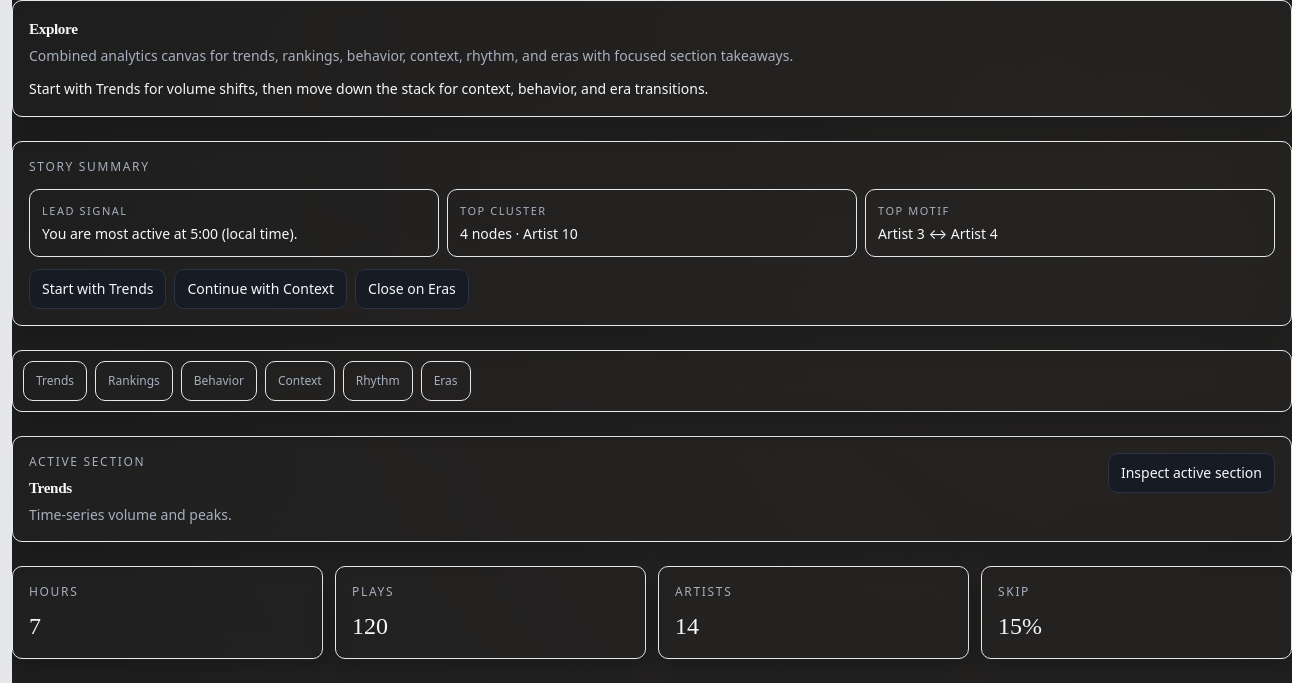
Test: ExploreDashboard › supports inspect drill-down controls with keyboard-dismiss and advanced routing
Click the button "Rankings" at point(134, 381), box [95,361,173,401]
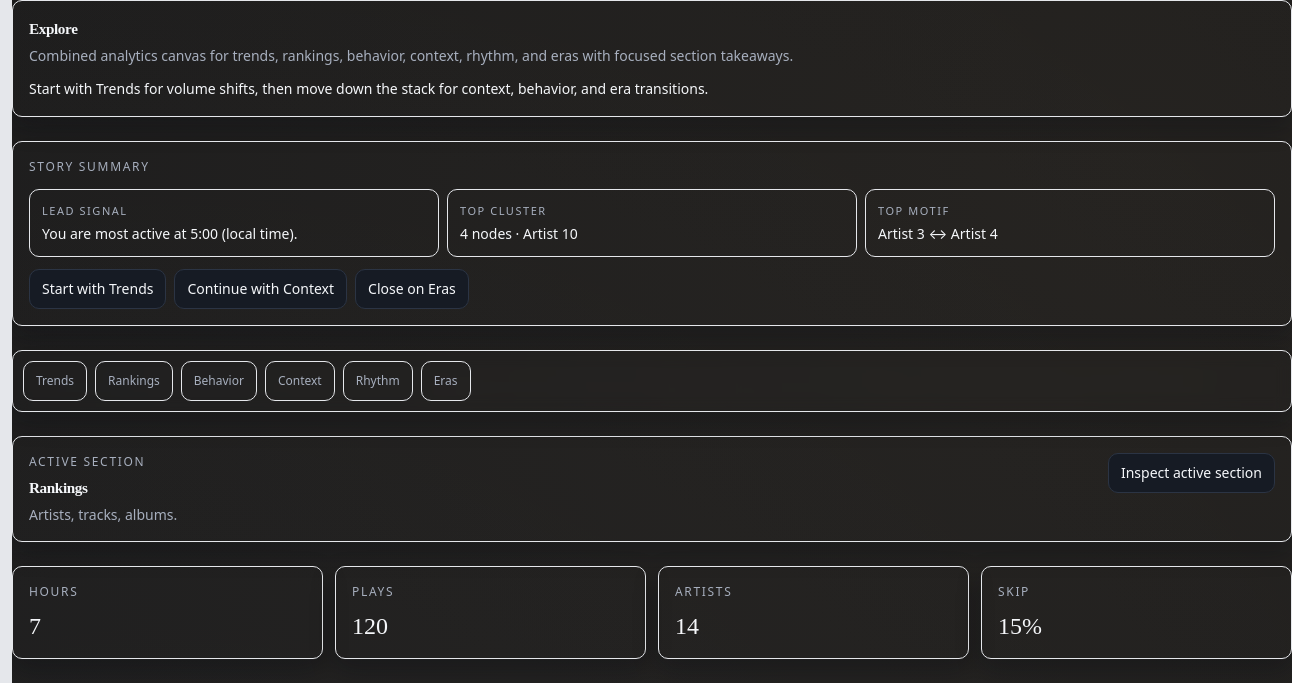
Click the button "Inspect active section" at point(1192, 473), box [1108,453,1275,493]
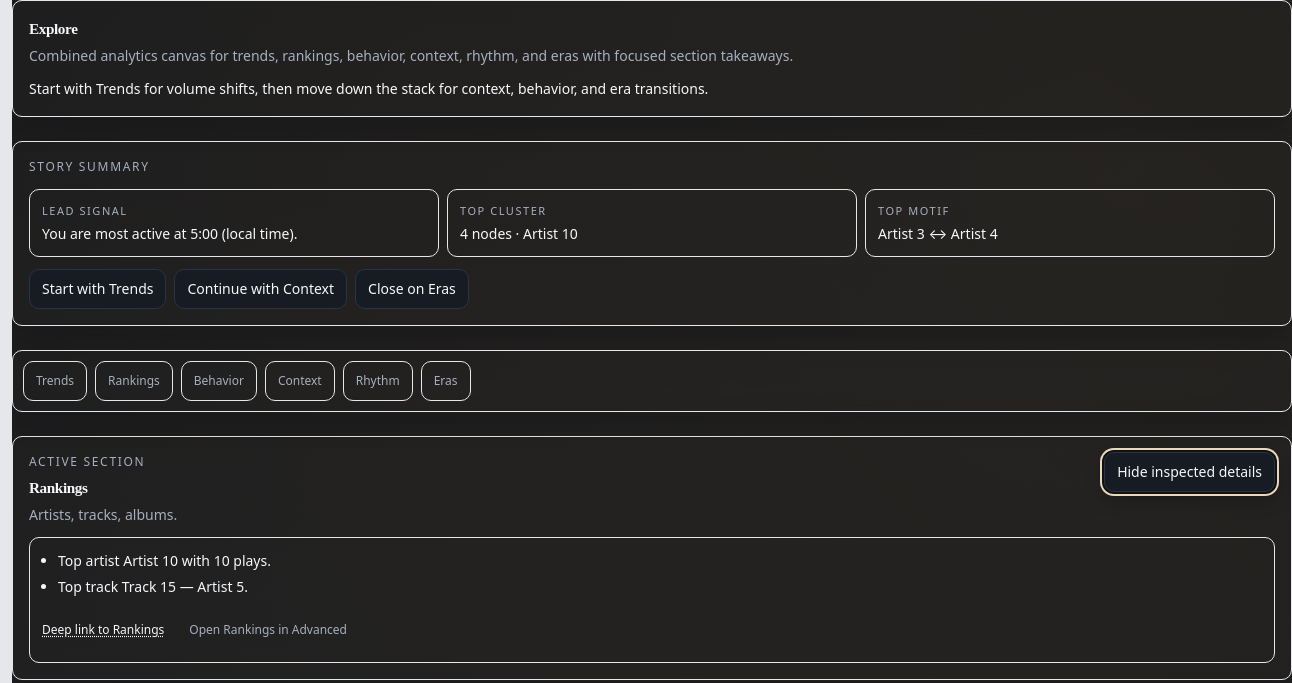
Expected: the button named "inspect active section" is expanded, [1104,452,1275,492]
Expected: the element named "rankings drill-down details" is shown, [29,537,1275,663]
Click the button "Open Rankings in Advanced" at point(268, 630), box [176,610,360,650]
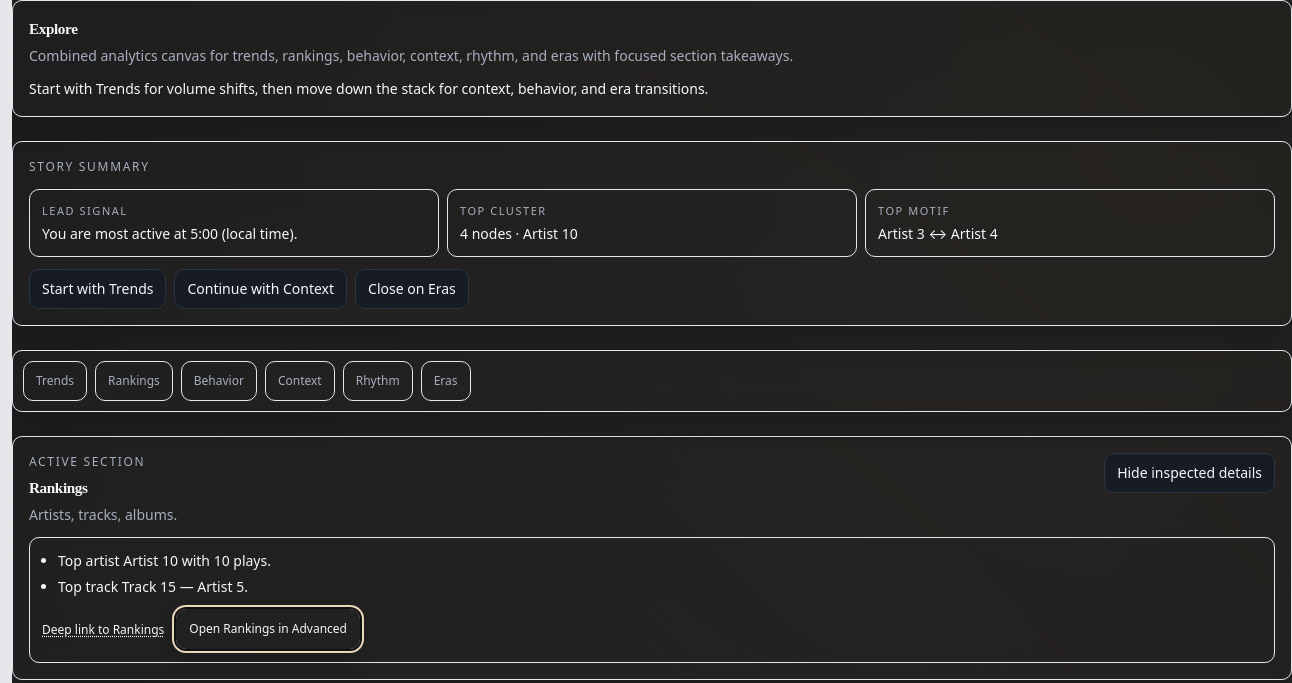
Press Escape
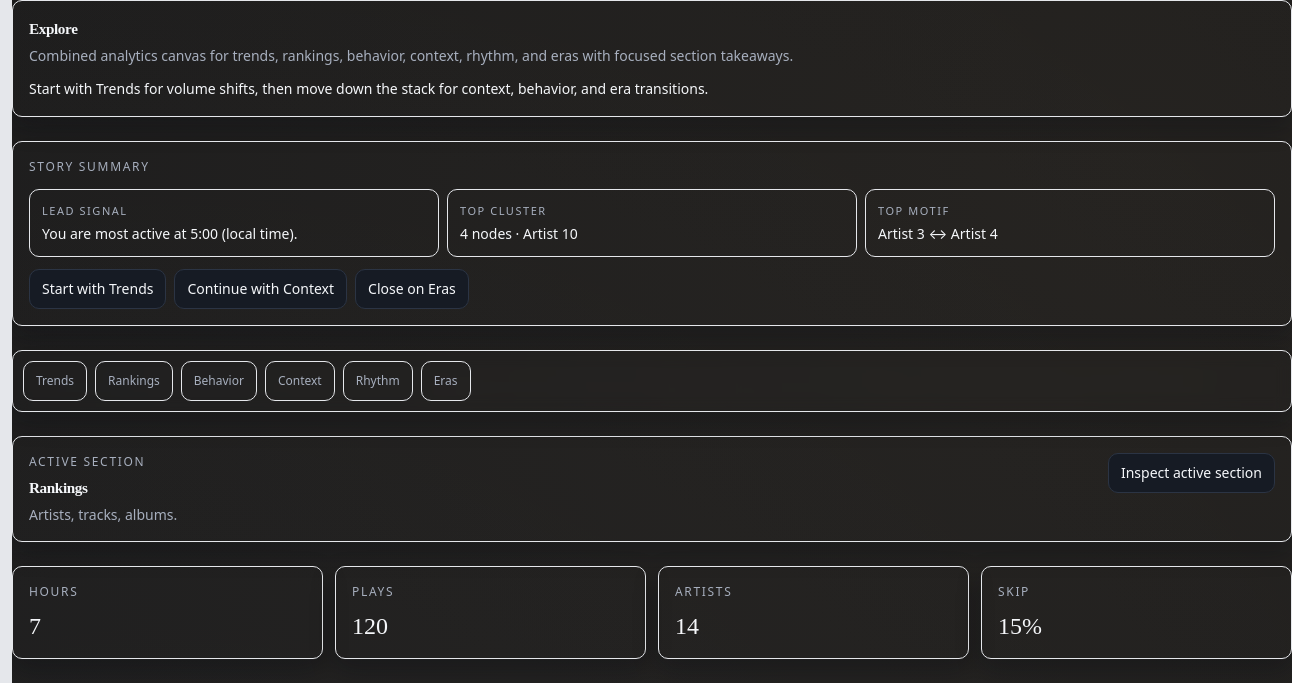
Expected: the button "Inspect active section" is collapsed, [1108,453,1275,493]
